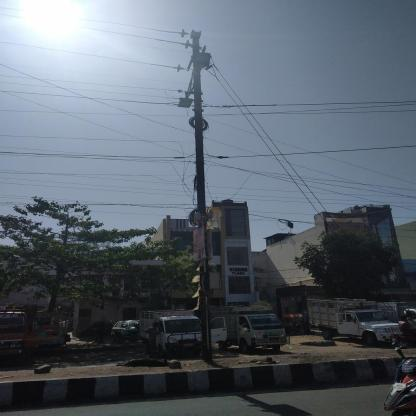Electrical Pole: (171, 28, 229, 358)
